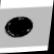correct: (0, 13, 39, 41)
